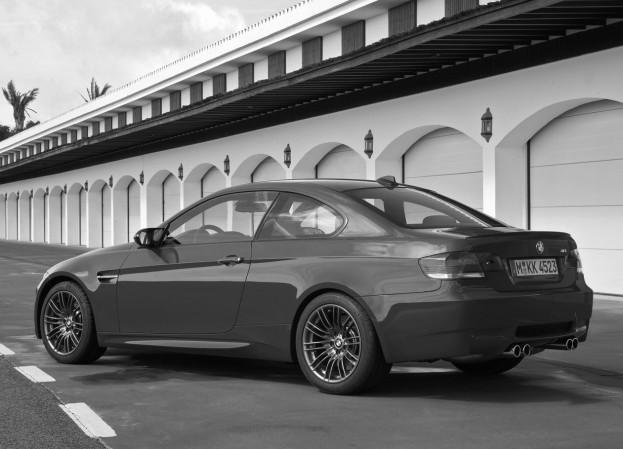car: (32, 178, 597, 397)
